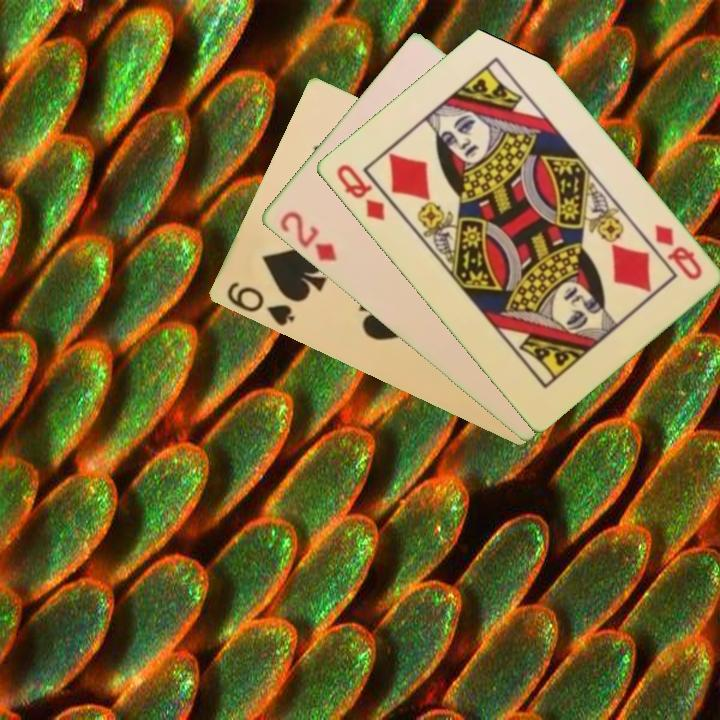2d: (275, 207, 339, 265)
6s: (222, 278, 297, 330)
Qd: (332, 160, 388, 224), (650, 220, 705, 284)
